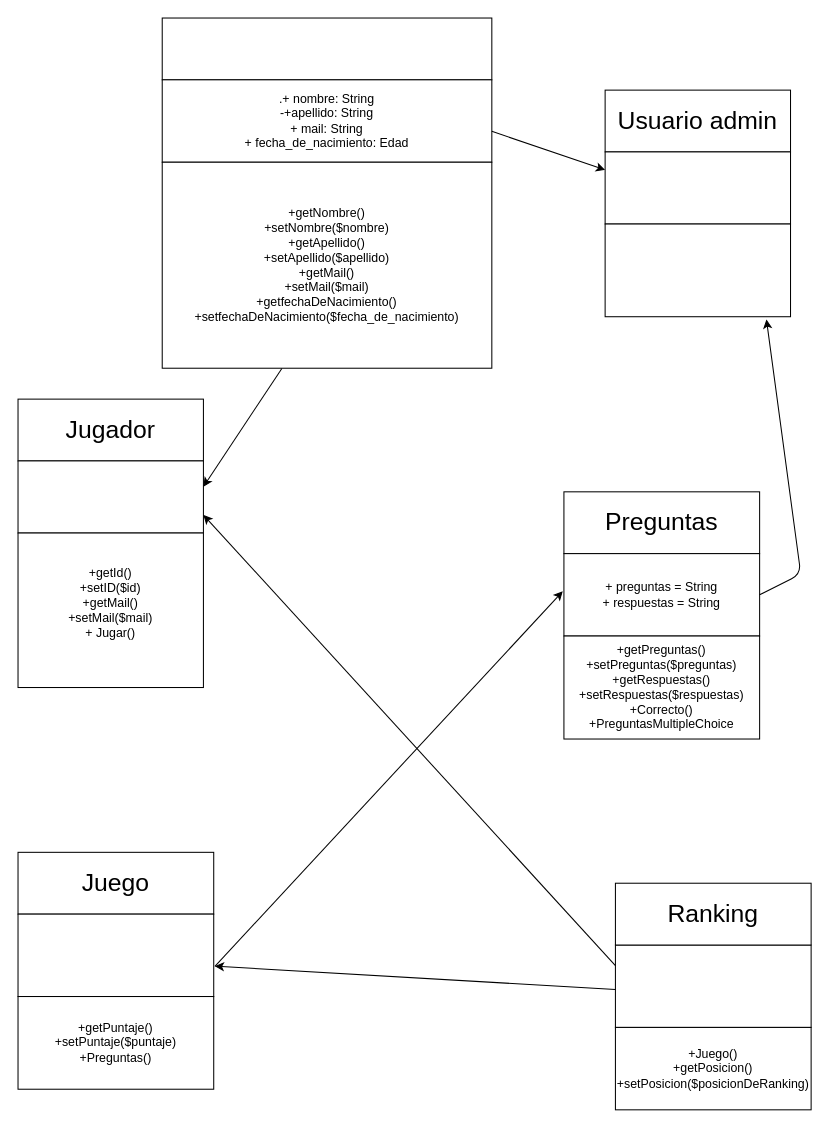
Some shapes in this 829 by 1128 pixel diagram are drawn without their labels. Each missing label, with the centre of its shape:
+ ID = Integer + Posicion Ranking = Ranking: [110,496]
+ preguntas = Preguntas: [697,187]
+ puntaje = Integer + preguntas = Preguntas: [115,955]
+ puntaje = Juego; + posicion de ranking = Integer: [712,985]
+modificarPreguntas() +agregarPreguntas() +eliminarPreguntas(): [697,270]
Usuarios: [326,48]
